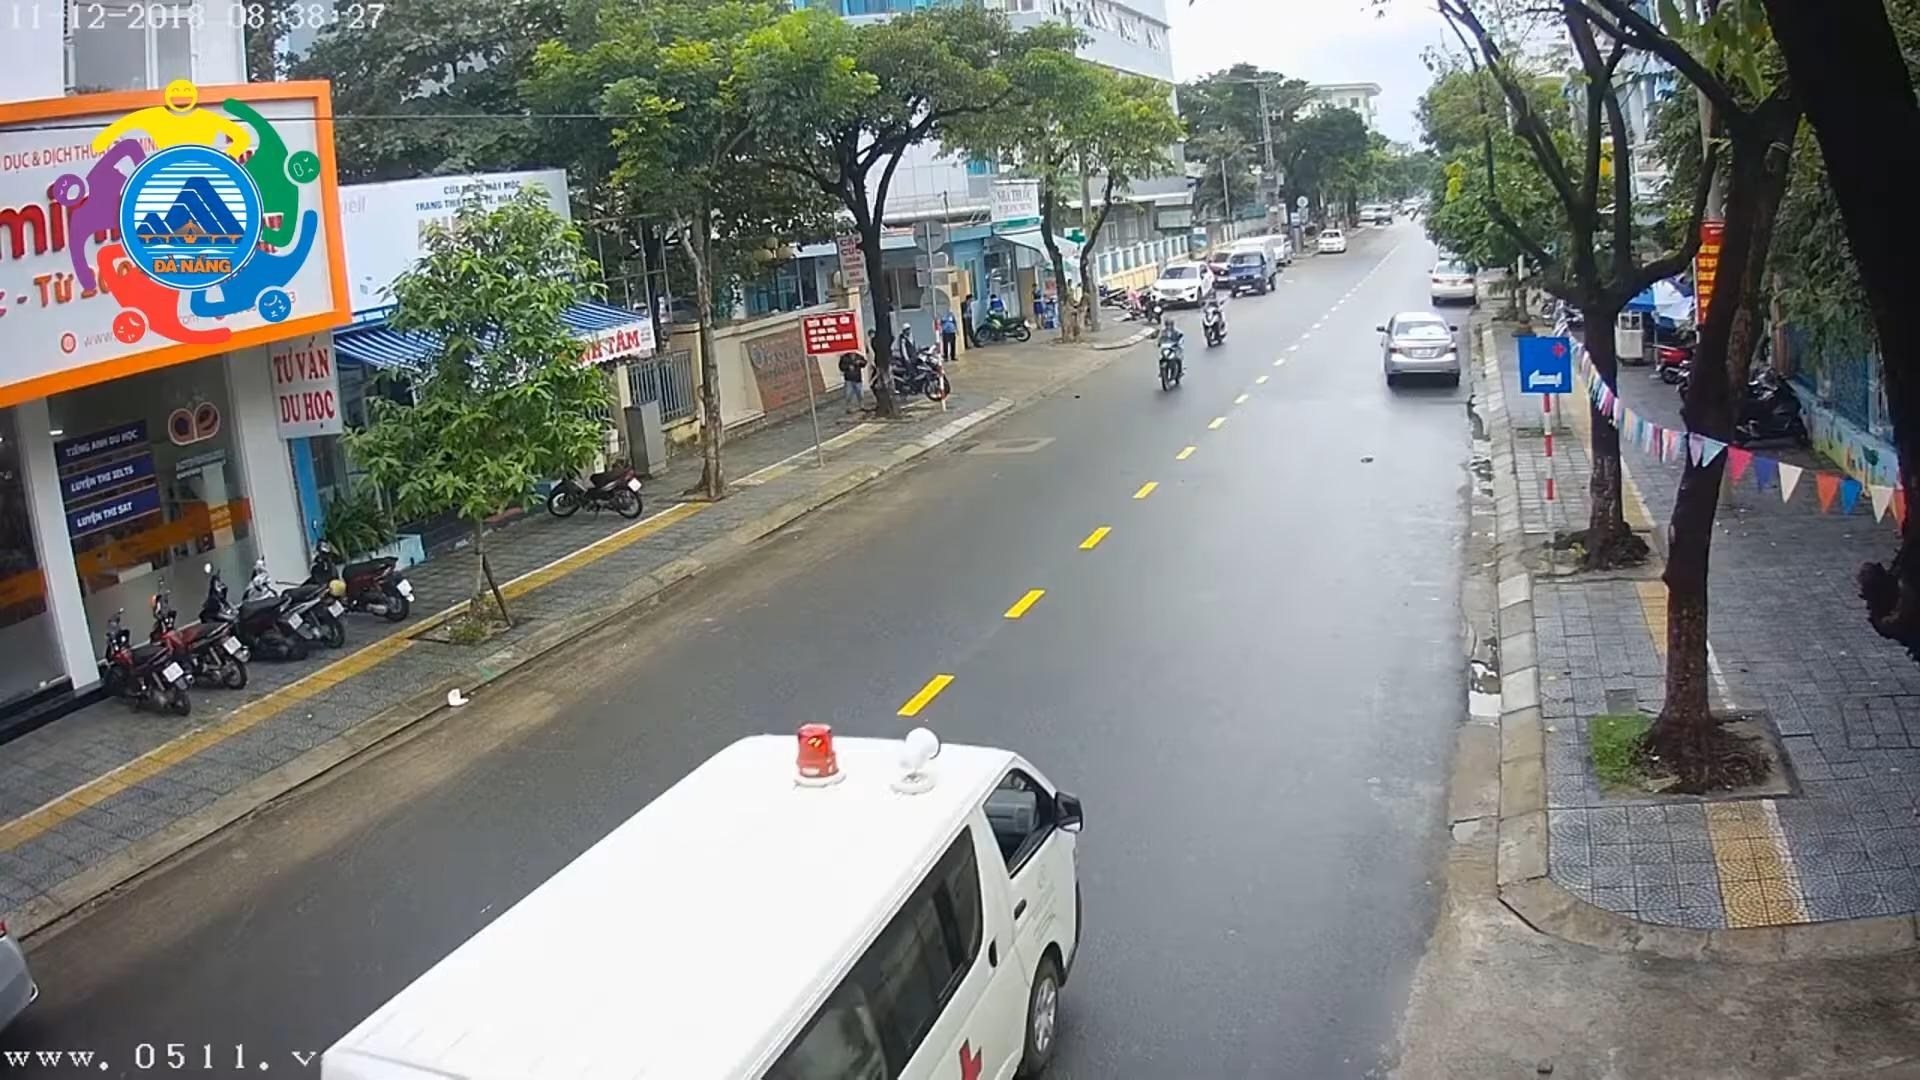ambulance: (311, 715, 1097, 1080)
car: (1373, 305, 1468, 393), (1149, 260, 1216, 310), (1423, 252, 1480, 311), (1204, 247, 1241, 290), (1316, 225, 1346, 256)
motorcycle: (196, 554, 311, 666), (141, 578, 251, 692), (96, 599, 194, 721), (247, 543, 351, 650), (314, 522, 413, 626), (547, 435, 647, 525), (869, 323, 952, 405), (969, 290, 1035, 349), (1153, 315, 1189, 394), (1199, 284, 1232, 352), (1134, 290, 1175, 328)
truck: (1221, 232, 1283, 297)
